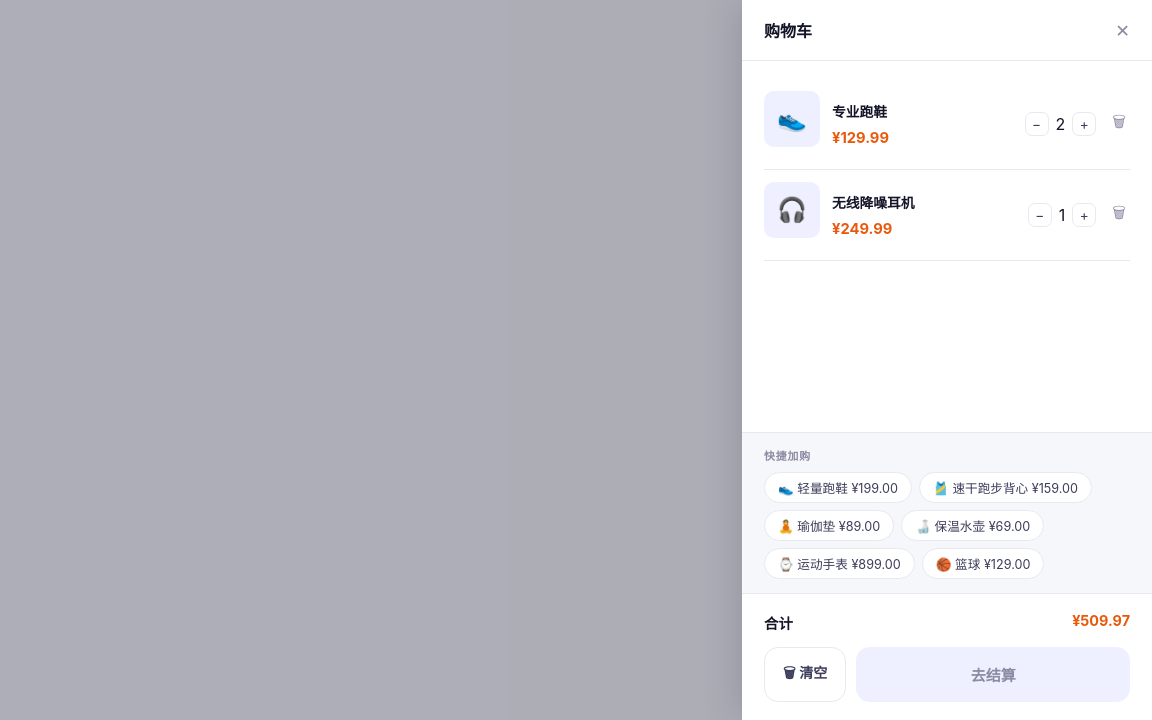
it: 写入（R10-3） › `+` 发 PUT 绝对数量、`🗑` 发 DELETE 条目、清空发 DELETE /cart；每次以响应体刷新且不补发 GET /cart
The width and height of the screenshot is (1152, 720).
Expected: the text "专业跑鞋" is shown, [832, 104, 887, 120]
Click the button named "增加 专业跑鞋 数量" at point(1084, 124), box [1072, 112, 1096, 136]
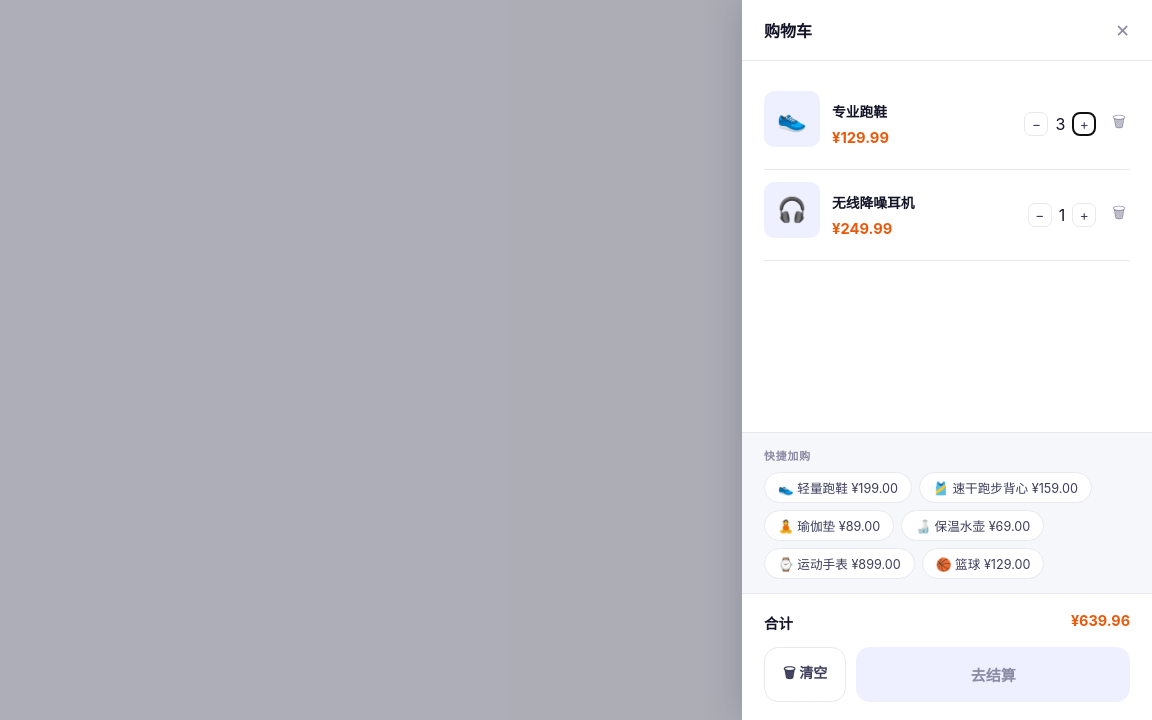
Click the button named "移除 无线降噪耳机" at point(1119, 215), box [1108, 202, 1130, 228]
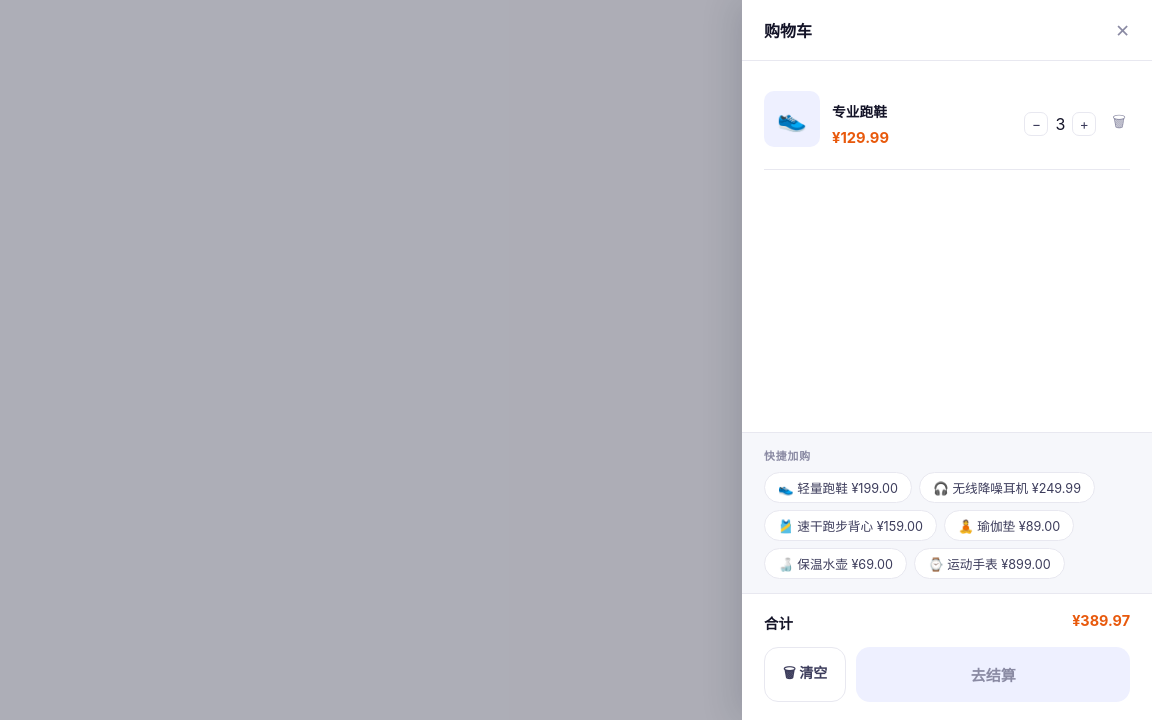
Click the button "🗑 清空" at point(805, 674), box [764, 647, 846, 702]
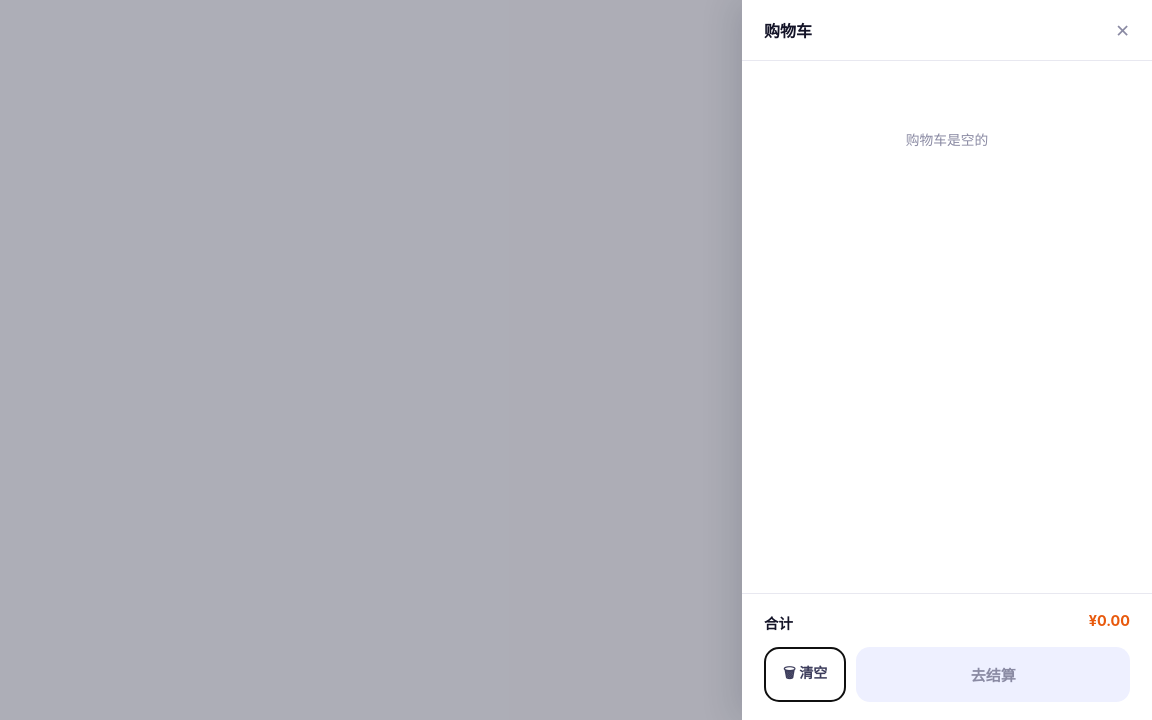
Expected: the text "购物车是空的" is shown, [906, 132, 988, 148]
